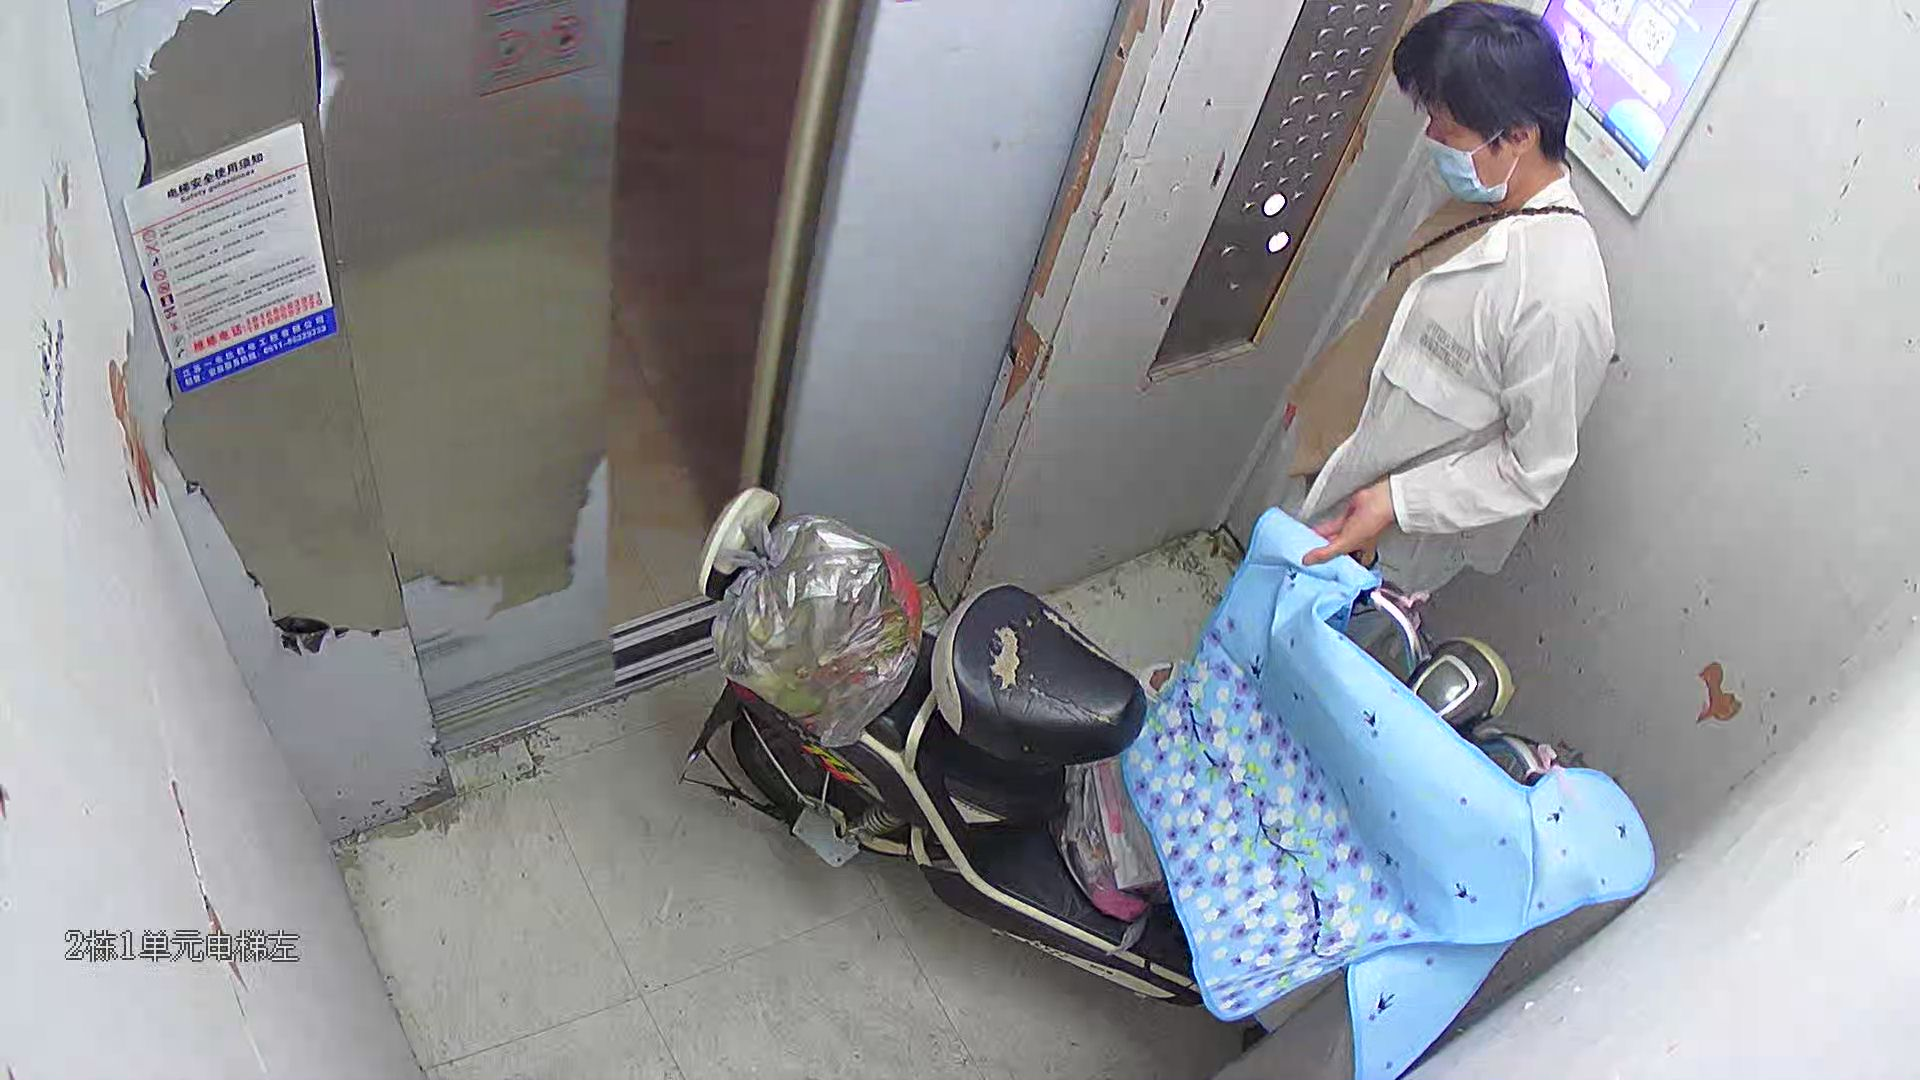Electric-bicycle: (690, 483, 1585, 1005)
